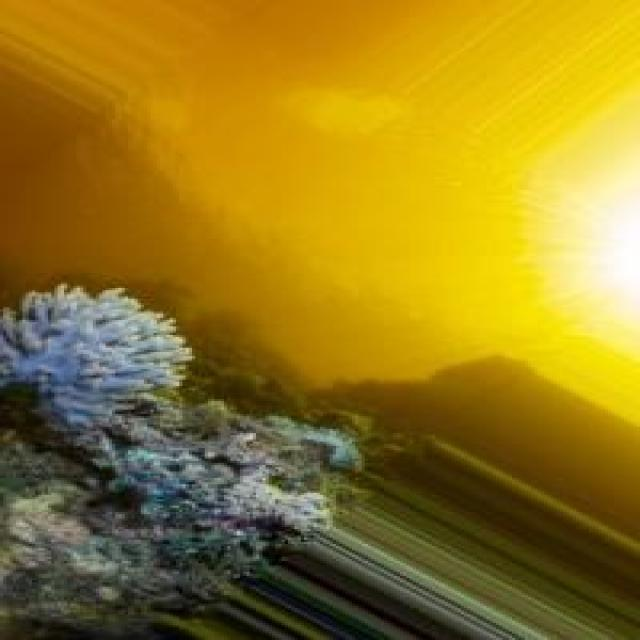Bleached: (1, 289, 183, 432)
